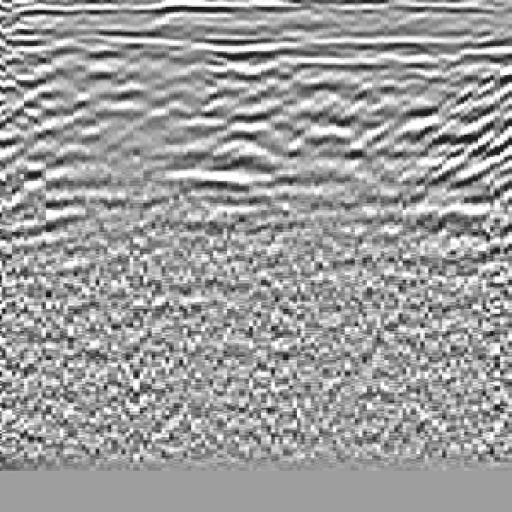metalic: (176, 33, 325, 289)
nonmetalic: (398, 56, 512, 257)
